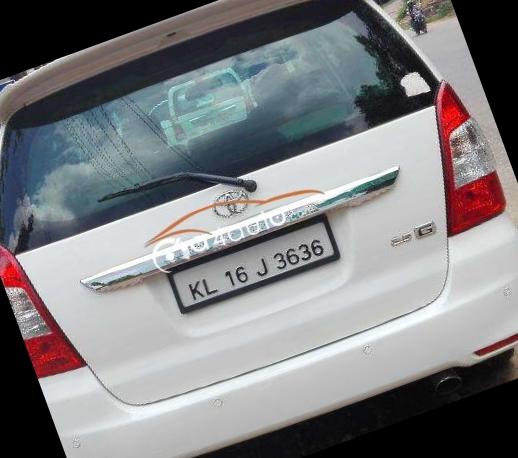plate: (160, 198, 357, 329)
